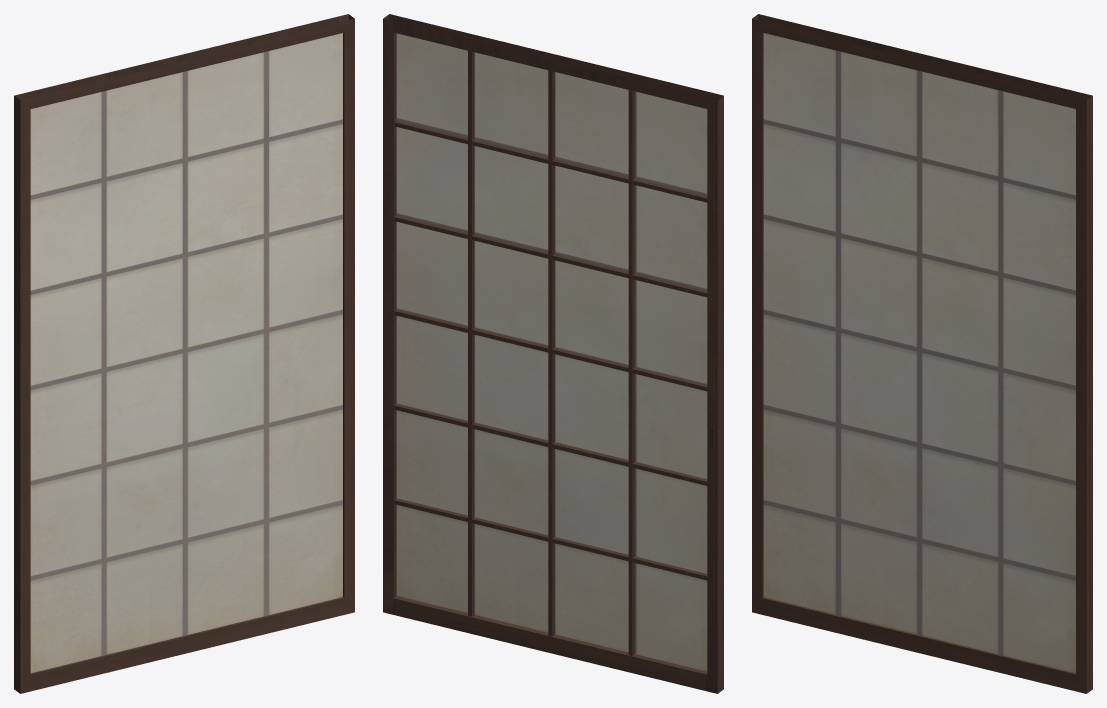
File: Slidedoor02_R.fbx
3 renders of one model, left to right at view 1: azimuth 30°, elevation 25°; view 2: azimuth 150°, elevation 25°; view 3: azimuth 330°, elevation 25°, orthographic.
Parts seen in each view (by area): view 1: Slidedoor02_R; view 2: Slidedoor02_R; view 3: Slidedoor02_R.
Part boxes in pixels (<box>): Slidedoor02_R: <box>14,14,354,693</box>; Slidedoor02_R: <box>383,14,723,693</box>; Slidedoor02_R: <box>752,14,1092,693</box>.
Size of the model in its own units: 108 by 184 by 3.58.
